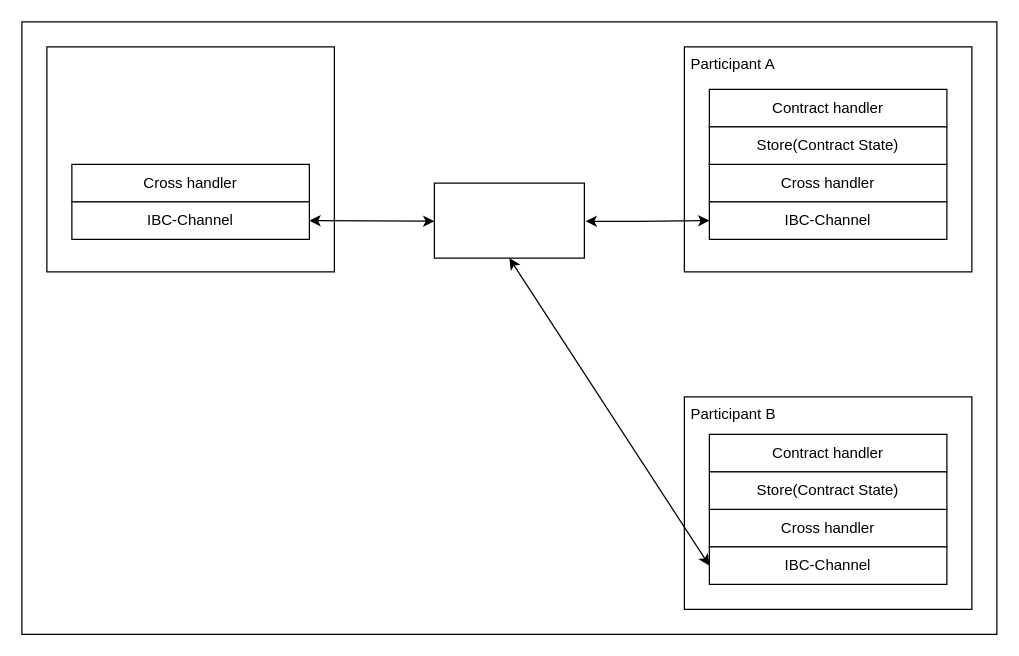
The diagram is 1019 pixels wide and 656 high, and some of its shapes have lost their labels. The shapes that lost their labels are listed below. From the top down, each one's box as (x1, y1, x2, y2) in pixels, then its label:
(46, 46, 334, 272): Coordinator
(433, 182, 584, 258): Relayer
